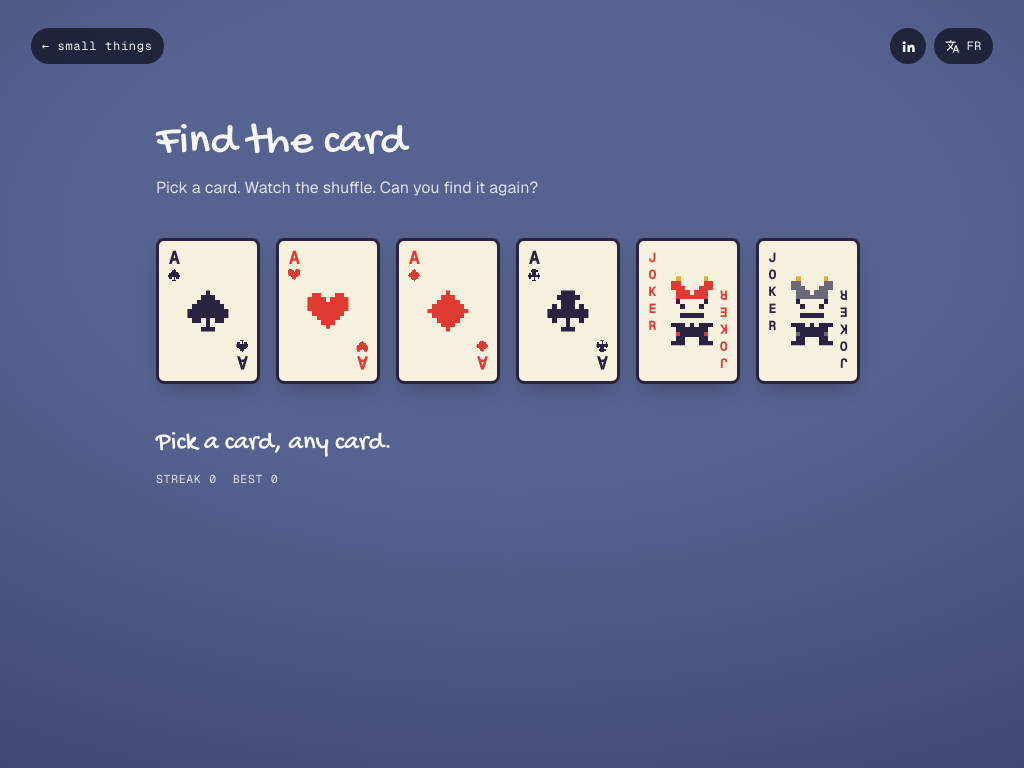
Test: Find the card › shuffles after a pick, then counts a correct find
Expected: the text "Pick a card, any card." is shown, x1=156 y1=426 x2=392 y2=458
Click the button named "Ace of hearts" at point(328, 311), box x1=276 y1=238 x2=380 y2=384
Wait 10000 ms
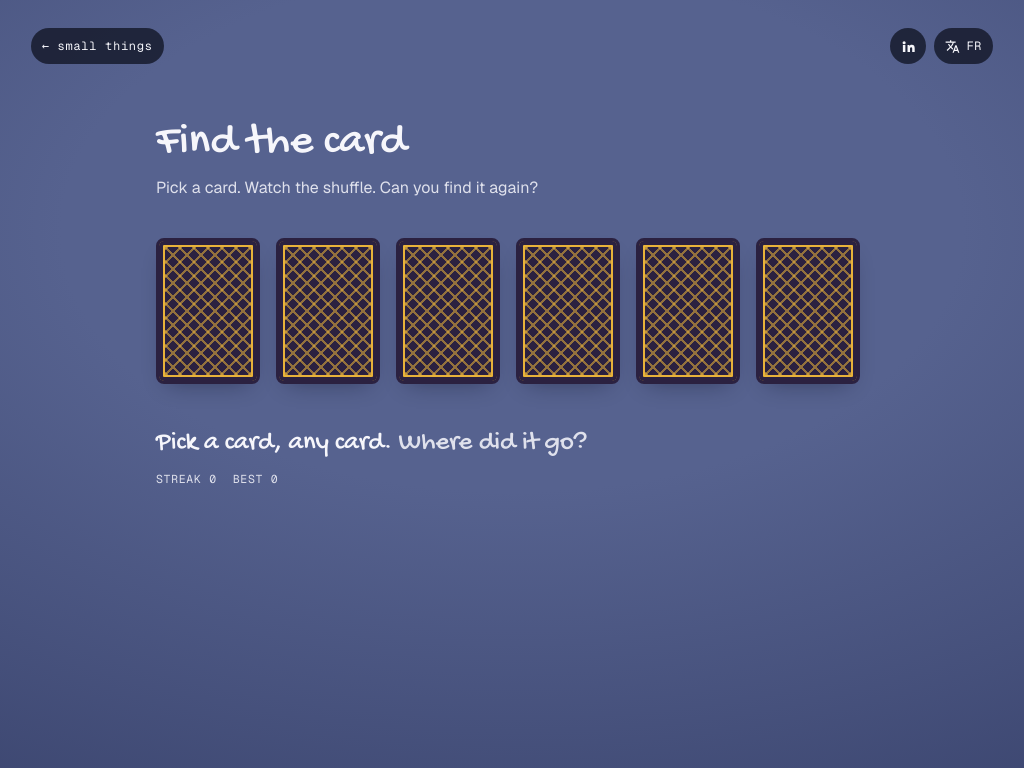
Result: the text "Where did it go?" is shown at x1=392 y1=426 x2=587 y2=458
Click the 1st button "A A" at point(448, 311), box x1=396 y1=238 x2=500 y2=384
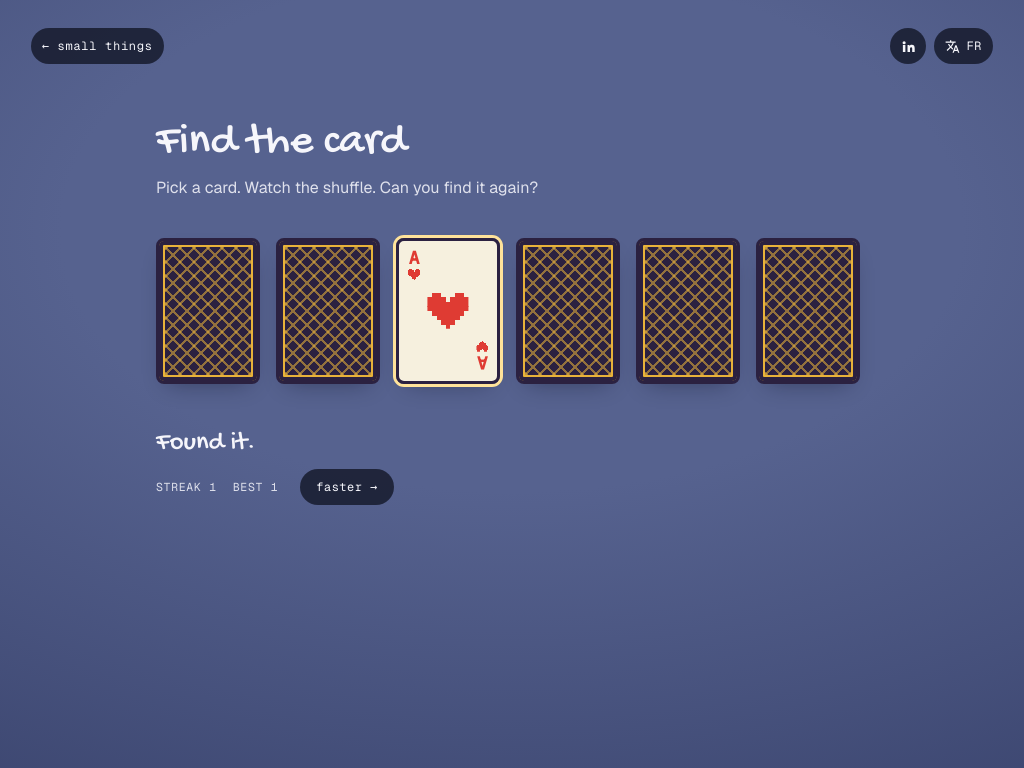
Result: the text "Found it." is shown at x1=156 y1=426 x2=256 y2=458
Result: the text "streak 1" is shown at x1=156 y1=477 x2=217 y2=497
Result: the button "faster →" is shown at x1=300 y1=470 x2=394 y2=506
